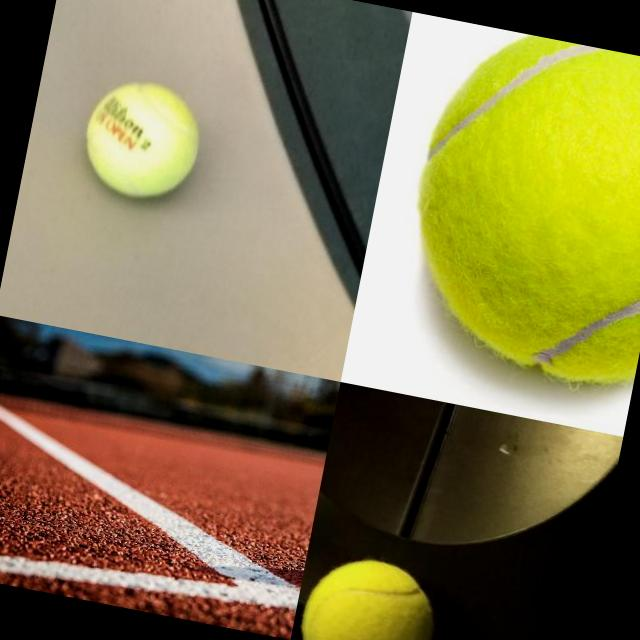tennis-ball: (387, 19, 640, 395), (72, 72, 210, 210), (294, 545, 447, 640)
